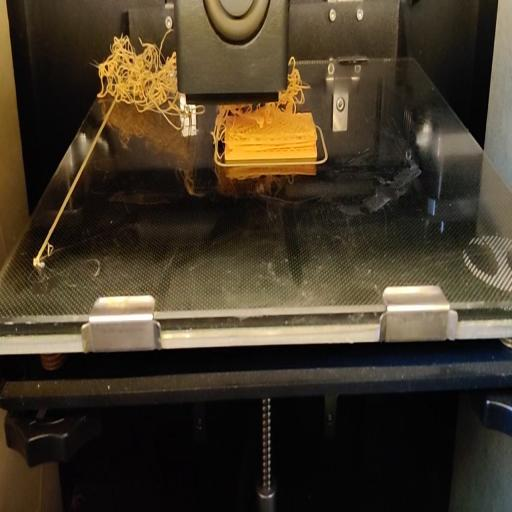spaghetti: (98, 28, 176, 132), (208, 103, 284, 135), (288, 59, 307, 114)
